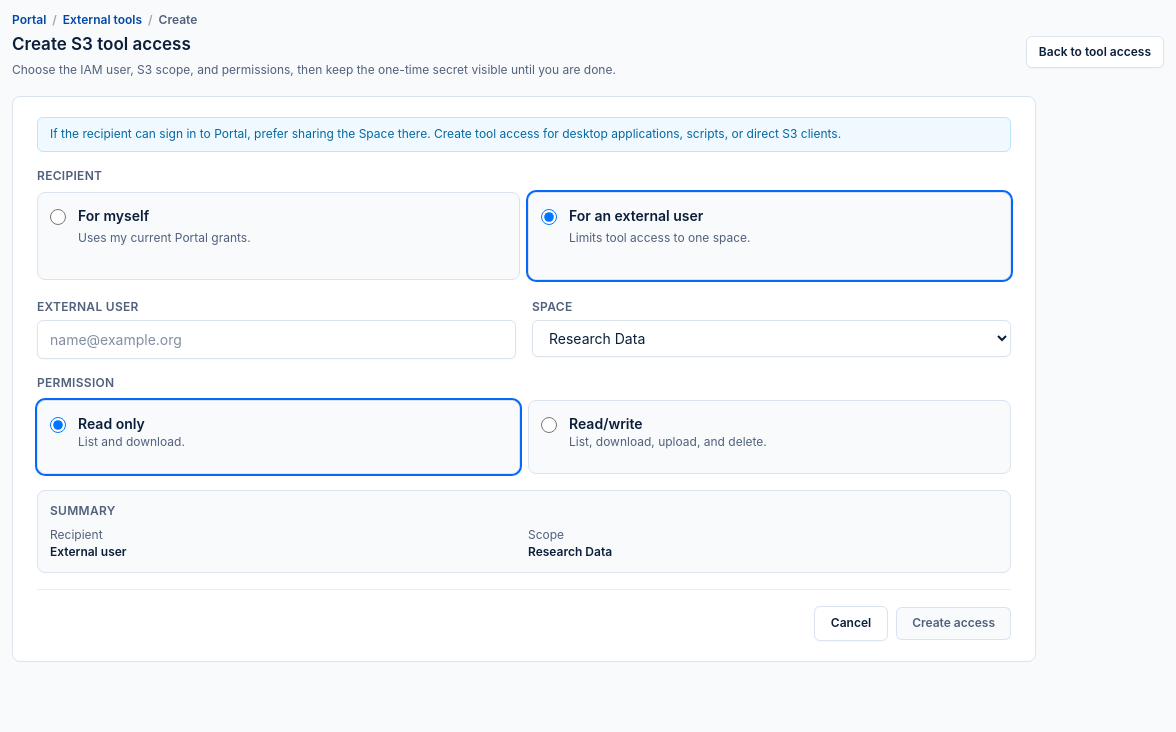
PortalAccessKeysPage › opens external key creation from a preselected space link
Expected: the heading "Create S3 tool access" is shown, [12,32,191,56]
Expected: the radio button labelled "For an external user" is checked, [541,209,557,225]
What coordinates should you click on to do the following:
click the button "Cancel"
I would click on:
 (851, 623)
Its box is [814,606,888,640].
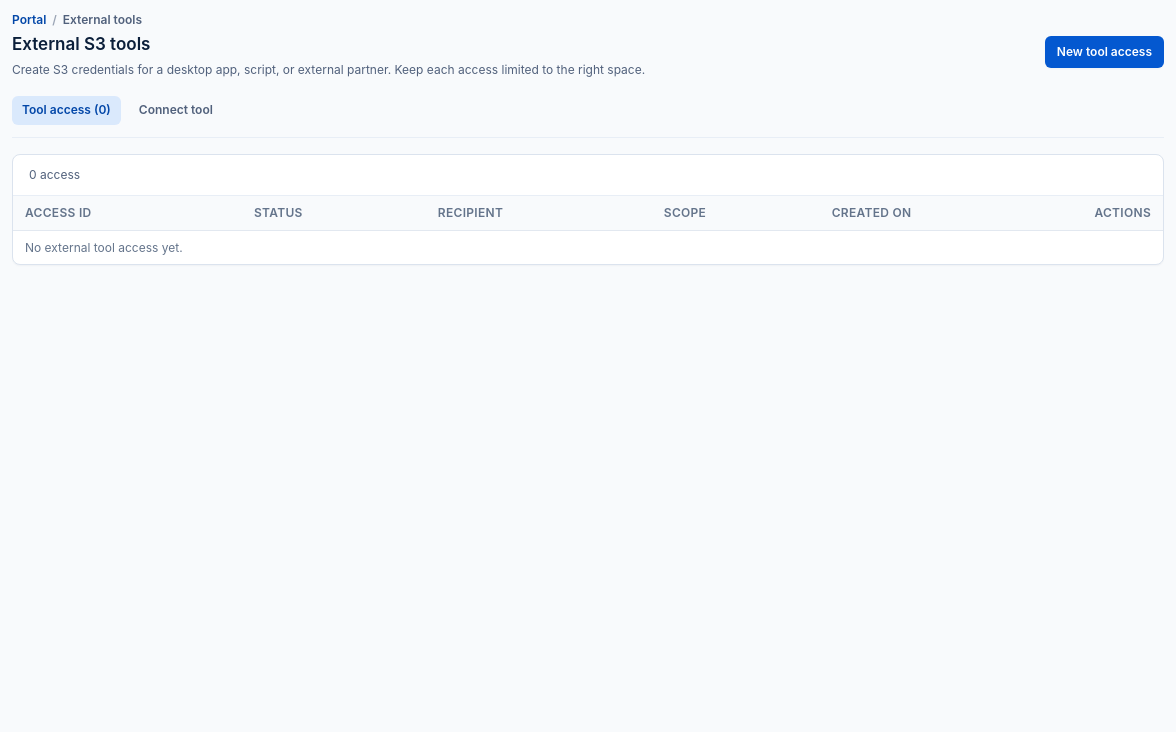
Now the heading "Create S3 tool access" is gone
